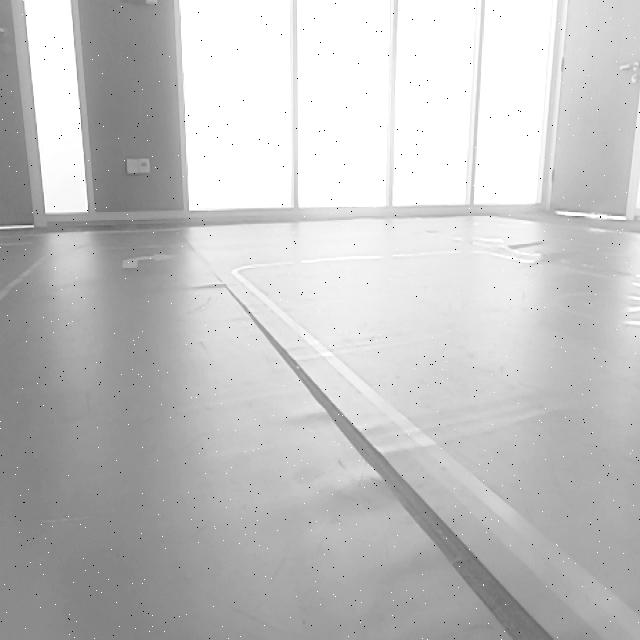left_lane: (236, 272, 640, 637), (0, 249, 53, 307)
